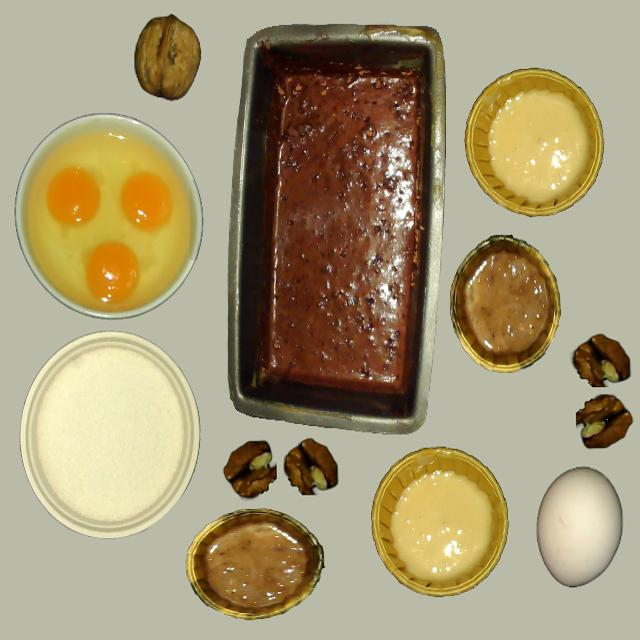Egg: (46, 167, 102, 227), (85, 242, 140, 303), (121, 173, 172, 231)
Sugar: (20, 332, 198, 536)
Walnut: (134, 14, 200, 100)
